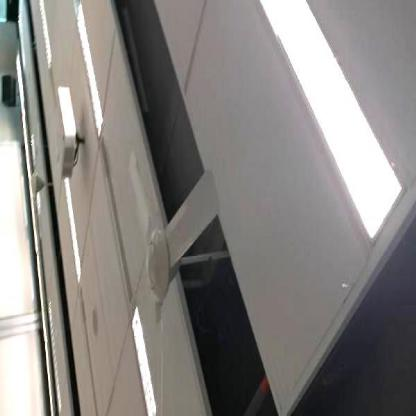light_on: (256, 0, 408, 250), (114, 290, 167, 415), (72, 3, 110, 138), (55, 170, 86, 288), (34, 0, 56, 72)
